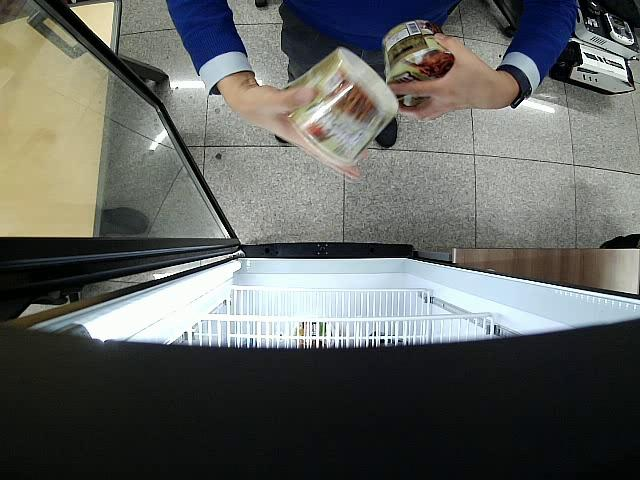00_hand: (228, 86, 361, 181), (389, 32, 505, 120)
03_chapagetti_L: (280, 47, 399, 167), (382, 21, 454, 108)
